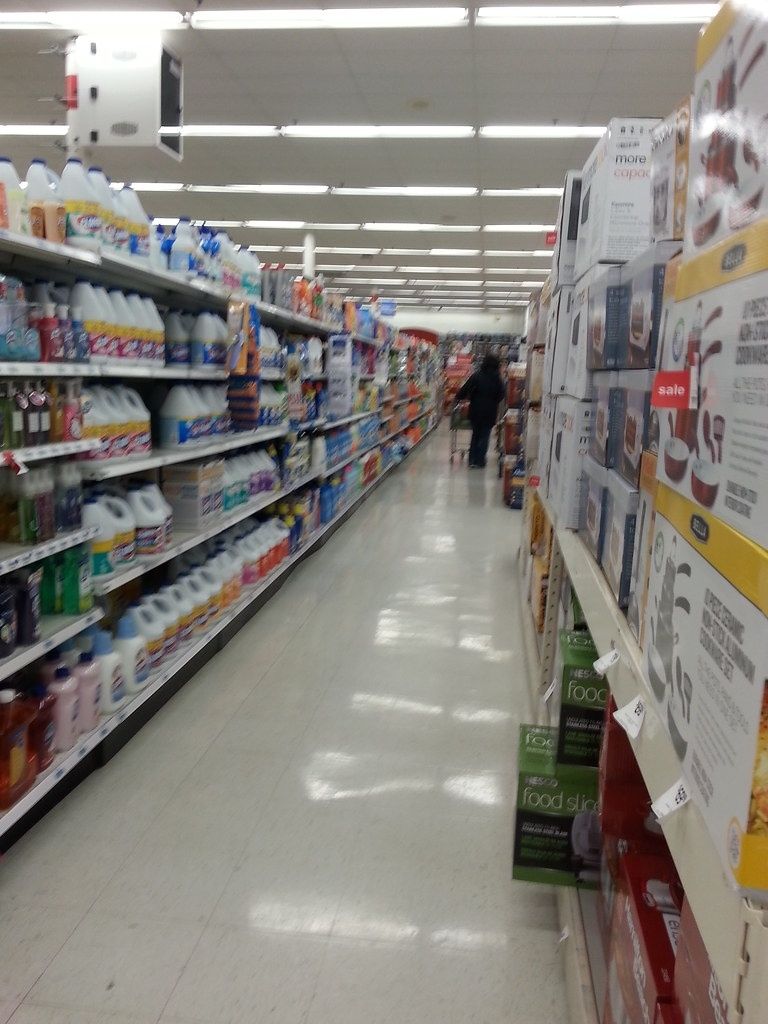Shelf: (0, 463, 398, 835), (88, 463, 393, 746), (0, 562, 290, 835), (0, 229, 382, 346), (547, 526, 681, 798), (0, 229, 339, 335), (0, 230, 339, 335), (93, 472, 317, 595), (78, 423, 298, 480), (78, 423, 288, 480), (78, 426, 288, 479), (318, 411, 428, 478), (0, 608, 102, 680), (0, 609, 101, 680), (556, 887, 604, 1023), (0, 359, 228, 382), (0, 360, 226, 382), (0, 527, 97, 575), (0, 438, 99, 467), (96, 361, 227, 382), (319, 441, 380, 478), (379, 409, 432, 443), (323, 410, 377, 429), (291, 418, 327, 432), (350, 332, 382, 347), (259, 367, 285, 381), (380, 428, 403, 443), (391, 396, 420, 407), (302, 372, 327, 382), (301, 373, 327, 382), (359, 373, 376, 382), (380, 413, 393, 423)
